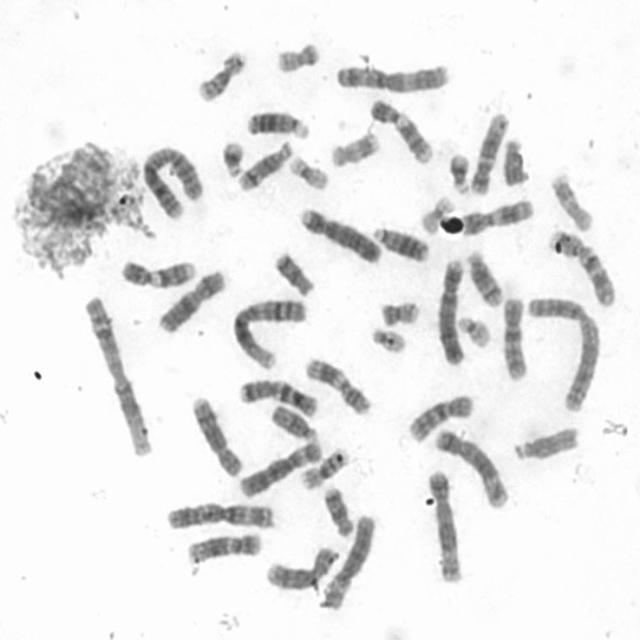A1: (79, 290, 156, 459), (228, 291, 311, 372)
A2: (521, 290, 602, 414), (138, 139, 206, 220)
A3: (332, 57, 452, 94), (161, 496, 277, 532)
B4: (295, 202, 384, 266), (434, 253, 469, 366)
B5: (430, 423, 511, 510), (423, 464, 466, 585)
C10: (404, 388, 476, 444), (498, 291, 532, 384)
C11: (301, 352, 375, 418), (458, 193, 536, 237)
C12: (466, 106, 510, 196), (183, 527, 265, 565)
C6: (317, 507, 378, 612), (235, 434, 325, 499)
C7: (546, 224, 618, 309), (234, 372, 321, 419)
C8: (186, 390, 246, 480), (261, 540, 342, 592)
C9: (366, 93, 435, 165), (117, 252, 200, 290)
D13: (369, 220, 433, 263), (243, 104, 312, 140)
D14: (235, 136, 296, 192), (463, 245, 507, 308)
D15: (509, 420, 582, 463), (266, 399, 319, 443)
E16: (192, 44, 249, 104), (297, 442, 351, 491)
E17: (546, 166, 596, 234), (326, 125, 382, 169)
E18: (270, 246, 318, 297), (320, 482, 356, 538)
F19: (284, 150, 332, 192), (416, 191, 457, 235)
F20: (272, 36, 322, 74), (377, 296, 422, 328)
G21: (445, 146, 473, 196), (218, 135, 247, 179)
G22: (454, 310, 494, 349), (367, 322, 409, 356)
X: (154, 263, 228, 335)
Y: (498, 132, 530, 188)
